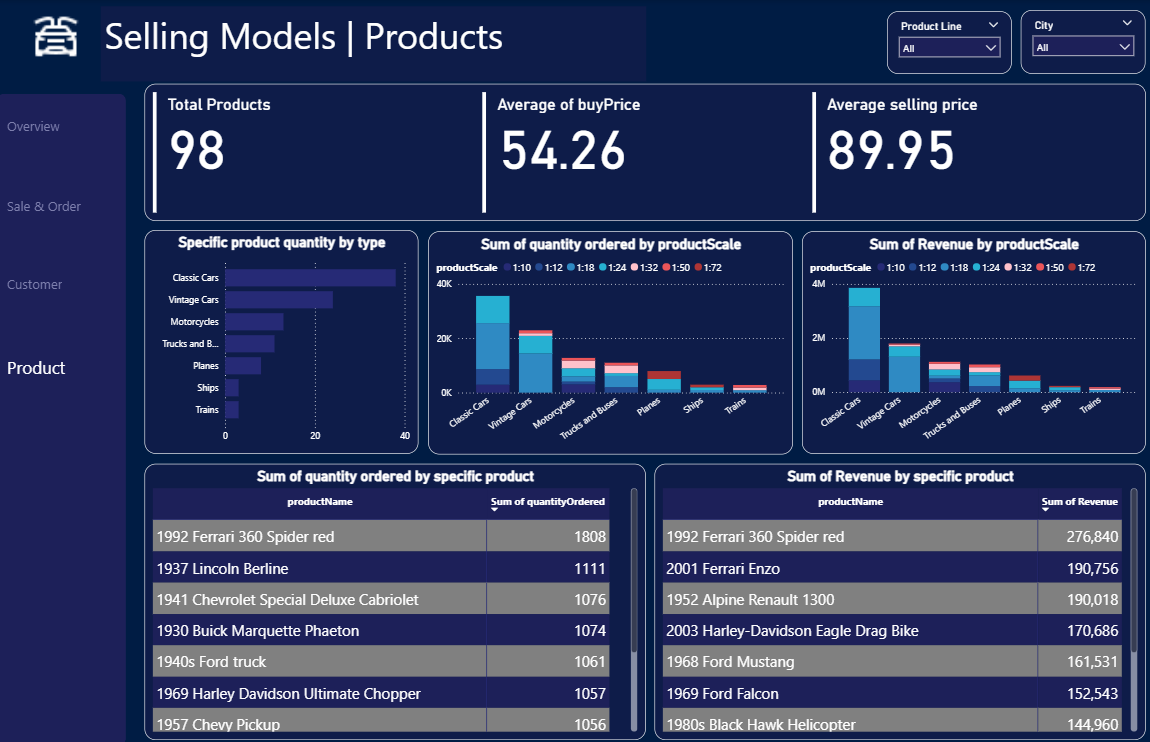

The dashboard page shown, as its layout file describes it:
{"tool":"powerbi","page":{"name":"Product","canvas":[1550,1000],"ordinal":3},"visuals":[{"type":"lineStackedColumnComboChart","title":"Sum of quantity ordered by productScale","fields":{"Category":["productlines.productLine"],"Series":["products.productScale"],"Y":["Sum(orderdetails (2).quantityOrdered)"]},"box":[577.3,309.4,489.1,298.9],"z":0},{"type":"slicer","fields":{"Values":["offices.city"]},"box":[1372.3,13.4,167.6,85.5],"z":1000},{"type":"clusteredBarChart","title":"Specific product quantity by type","fields":{"Category":["products.productLine"],"Y":["Count(products.productCode)"]},"box":[197.7,308.3,367,299.9],"z":2000},{"type":"lineStackedColumnComboChart","title":"Sum of Revenue by productScale","fields":{"Category":["productlines.productLine"],"Series":["products.productScale"],"Y":["Sum(orderdetails (2).Revenue)"]},"box":[1079.8,310,460.8,298.3],"z":3000},{"type":"slicer","fields":{"Values":["products.productLine"]},"box":[1193,15.1,167.6,83.8],"z":4000},{"type":"pivotTable","title":"Sum of quantity ordered by specific product","fields":{"Rows":["products.productName"],"Values":["Sum(orderdetails (2).quantityOrdered)"]},"box":[197.7,621.7,671.9,370.3],"z":5000},{"type":"pivotTable","title":"Sum of Revenue by specific product","fields":{"Rows":["products.productName"],"Values":["Sum(orderdetails (2).Revenue)"]},"box":[881.4,621.7,658.5,370.3],"z":6000},{"type":"cardVisual","fields":{"Data":["Count(products.productCode)","Avg(products.buyPrice)","orderdetails (2).AOV"]},"box":[197.7,112.3,1342.2,184.3],"z":7000},{"type":"textbox","box":[138.8,8.3,731.1,100.8],"z":8000},{"type":"image","box":[13.2,8.9,131.9,83.5],"z":9000},{"type":"group","id":"g1","title":"Group 1","box":[0,125.7,234.6,874.7],"z":10000},{"type":"shape","box":[0,125.7,173,874.7],"z":14000,"group":"g1"},{"type":"pageNavigator","box":[13.1,157.5,208.9,414.9],"z":15000,"group":"g1"}]}

Visuals, with their boxes on the page's 1550x1000 design canvas (x1, y1, x2, y2). These are canvas units, not pixel positions in the 1150x742 screenshot, which may show the page scaled, cropped or inside an application window:
"Sum of quantity ordered by productScale" lineStackedColumnComboChart: left=577, top=309, right=1066, bottom=608
slicer - offices.city: left=1372, top=13, right=1540, bottom=99
"Specific product quantity by type" clusteredBarChart: left=198, top=308, right=565, bottom=608
"Sum of Revenue by productScale" lineStackedColumnComboChart: left=1080, top=310, right=1541, bottom=608
slicer - products.productLine: left=1193, top=15, right=1361, bottom=99
"Sum of quantity ordered by specific product" pivotTable: left=198, top=622, right=870, bottom=992
"Sum of Revenue by specific product" pivotTable: left=881, top=622, right=1540, bottom=992
cardVisual - Count(products.productCode) x Avg(products.buyPrice): left=198, top=112, right=1540, bottom=297
textbox: left=139, top=8, right=870, bottom=109
image: left=13, top=9, right=145, bottom=92
"Group 1" group: left=0, top=126, right=235, bottom=1000
shape: left=0, top=126, right=173, bottom=1000
pageNavigator: left=13, top=158, right=222, bottom=572
